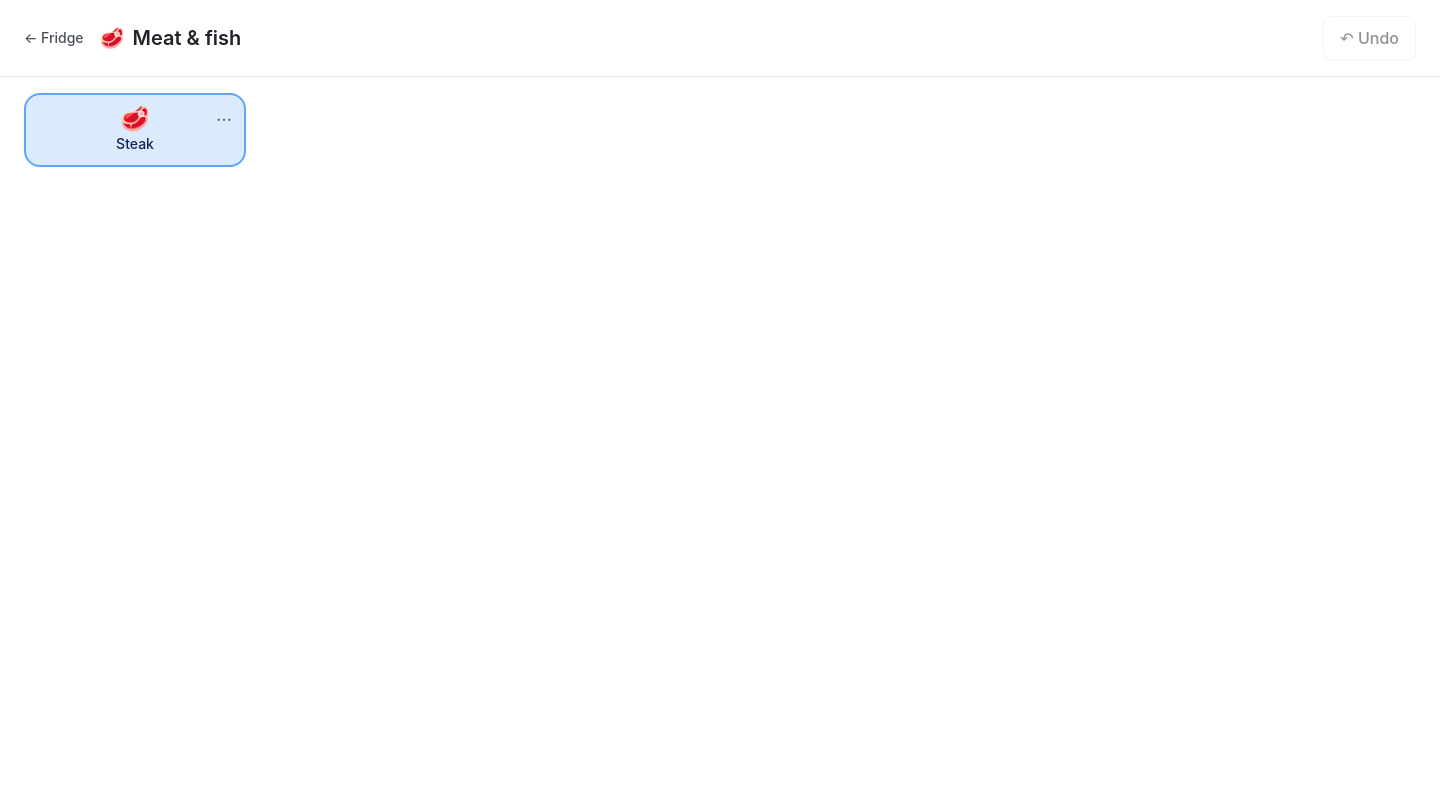
Scenario: an area › opens an item's sheet from its "…"
Click the button named "More for Steak".
click(224, 115)  # box [202,93,246,137]
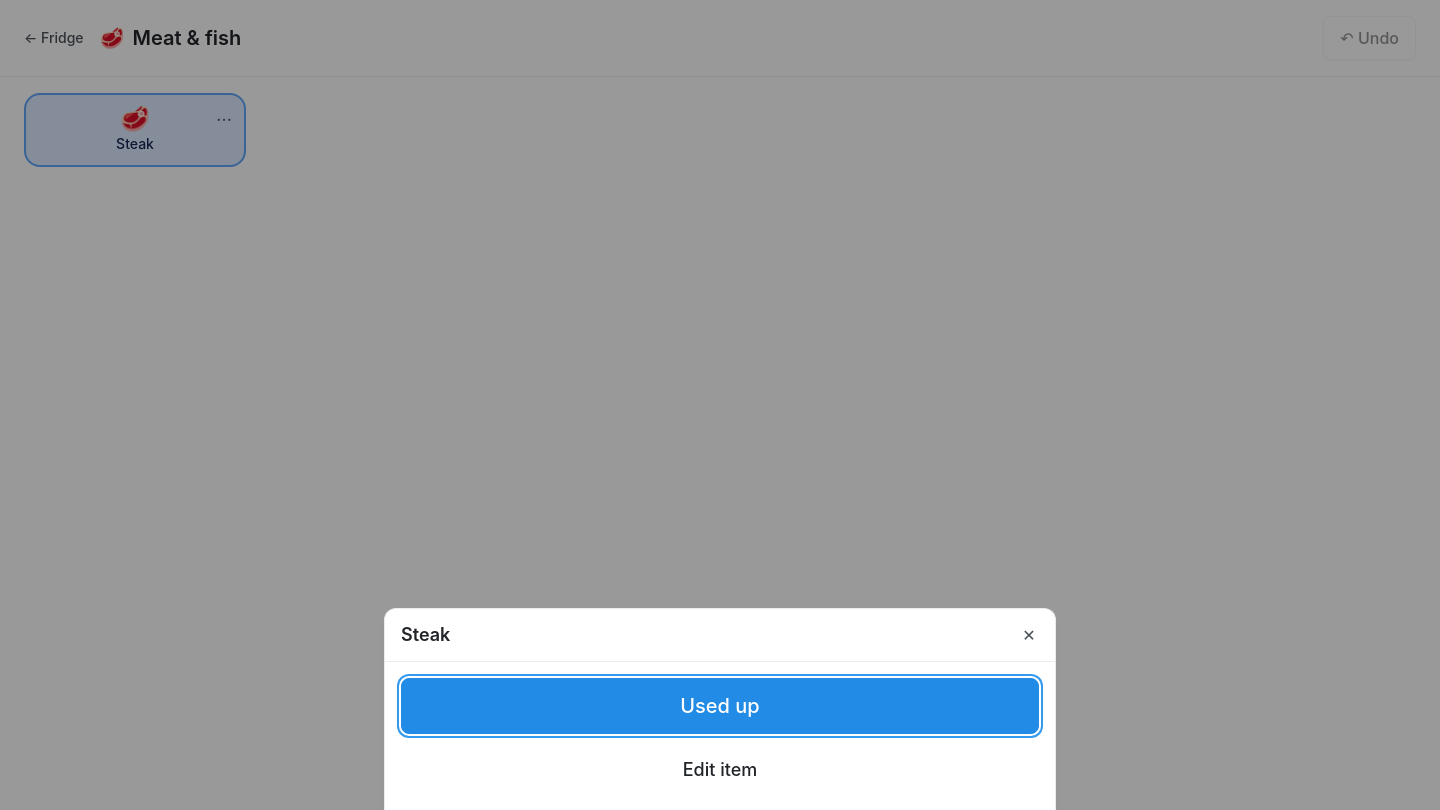
Expected: the dialog "Steak" is shown, [384,608,1056,809]
